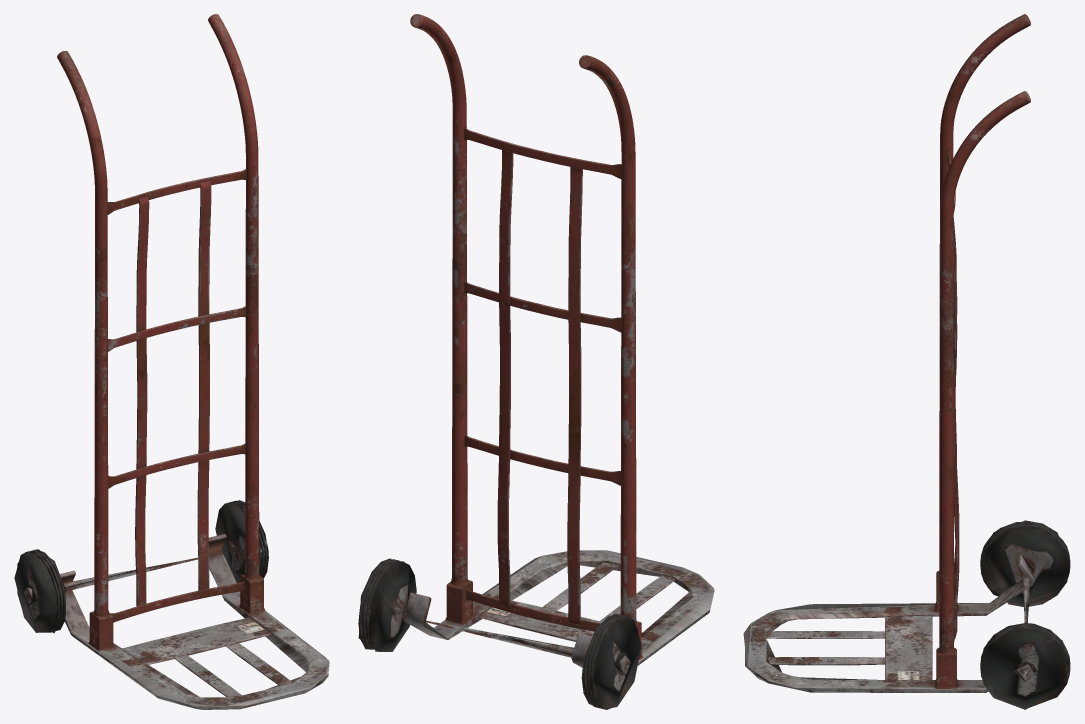
File: hand_truck.glb
The picture shows the model from 3 angles, left to right: view 1: azimuth 30°, elevation 25°; view 2: azimuth 150°, elevation 25°; view 3: azimuth 270°, elevation 25°; orthographic projection. The views are drawn at different scales.
Visible parts, largest first — view 1: hand_truck; view 2: hand_truck; view 3: hand_truck.
Boxes of the visible parts, left/top/right/bottom form: hand_truck: left=14, top=14, right=329, bottom=709; hand_truck: left=358, top=14, right=714, bottom=709; hand_truck: left=743, top=14, right=1070, bottom=709.
Size of the model in its own units: 0.5861 by 1.4 by 0.6908.
Materials: 1 (1 with a texture image).
